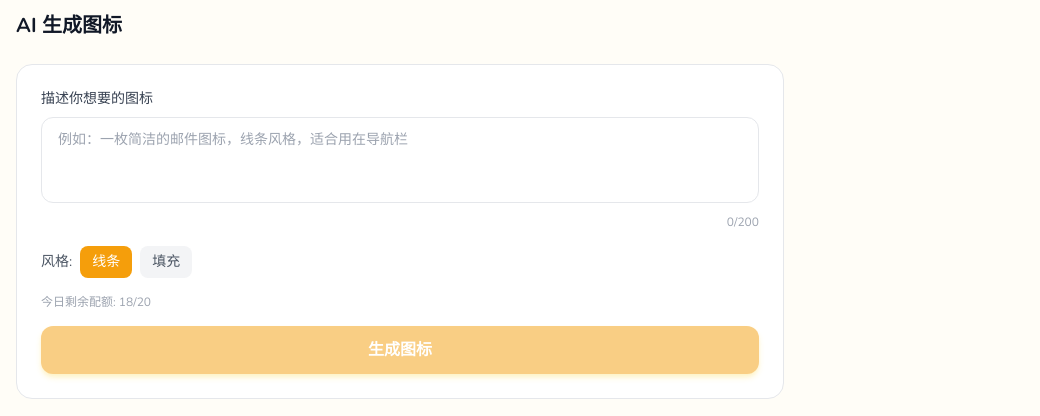
Test: AiGeneratePage › shows error on network failure
In the text box with placeholder "例如：一枚简洁的邮件图标，线条风格，适合用在导航栏": (400, 160) left=41, top=117, right=759, bottom=203, type "a cat icon"
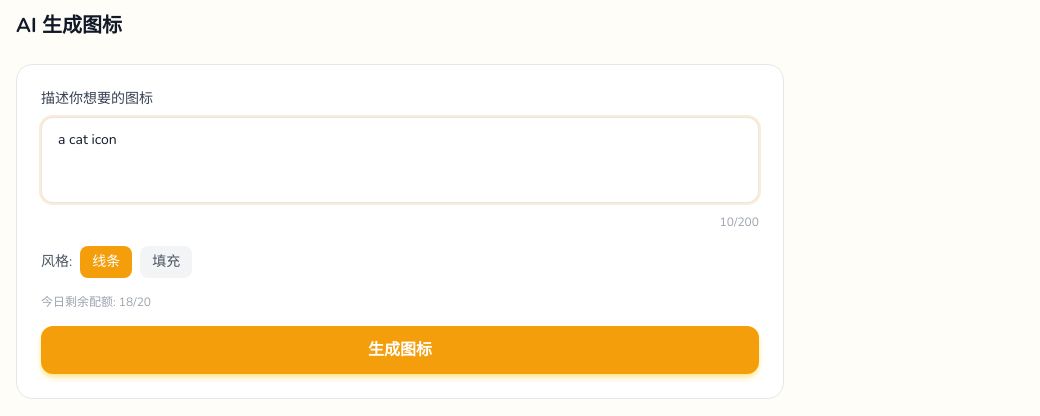
Click the button "生成图标": (400, 350) left=41, top=326, right=759, bottom=374
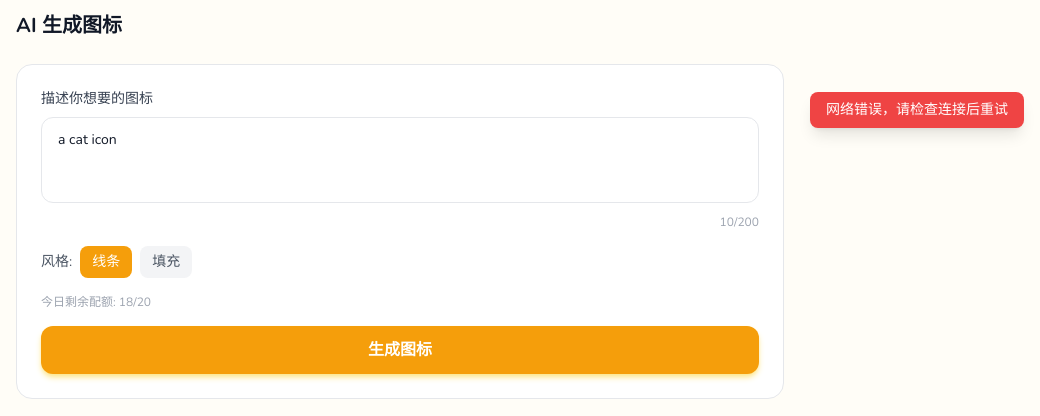
Check: the text "网络错误，请检查连接后重试" is shown, box left=810, top=92, right=1024, bottom=128
